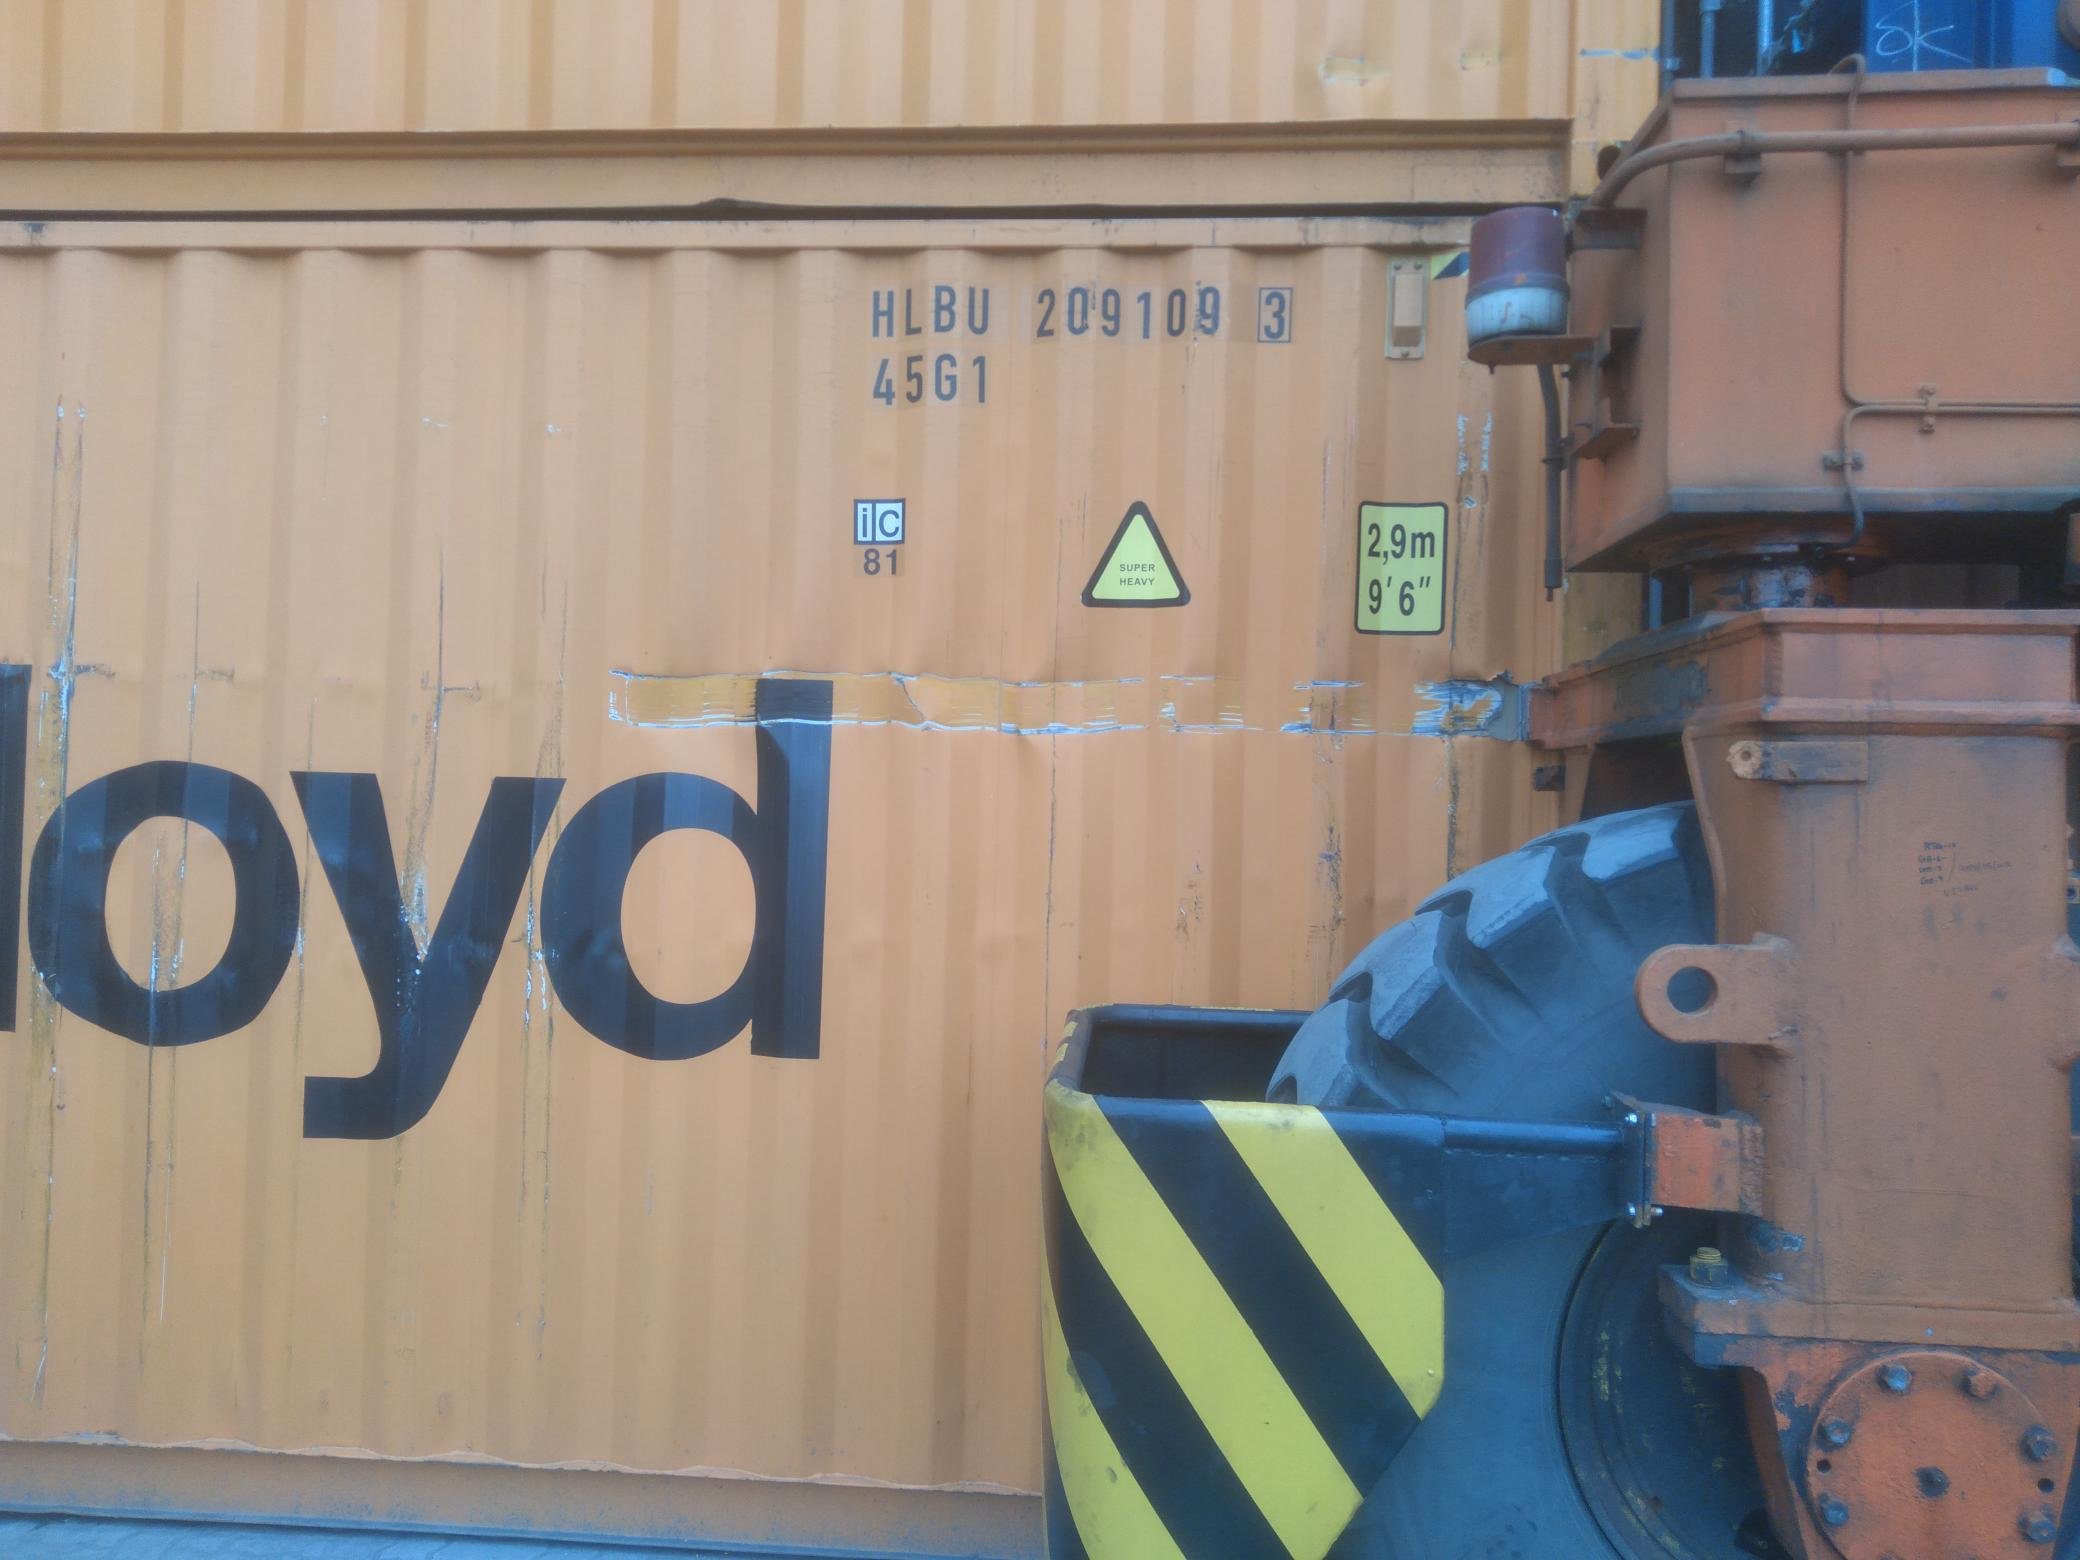moderate: (598, 652, 1535, 752), (1441, 464, 1507, 518)
